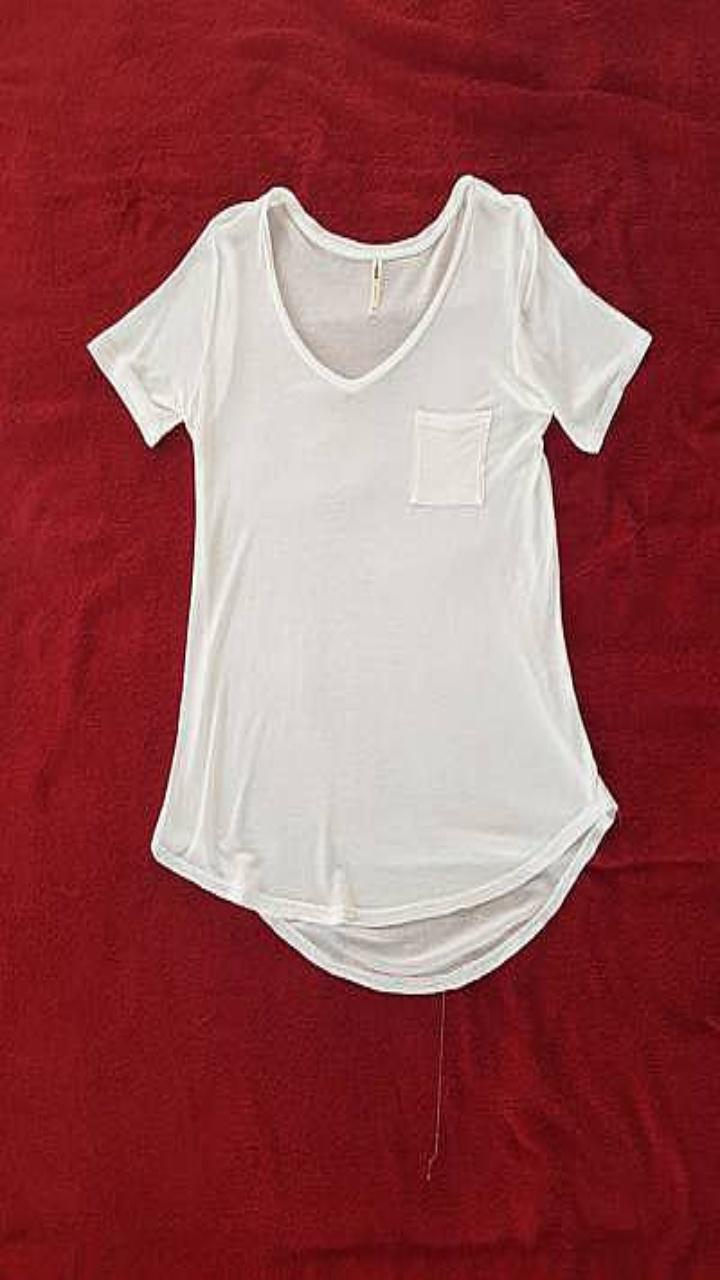T-Shirt: (87, 173, 650, 992)
